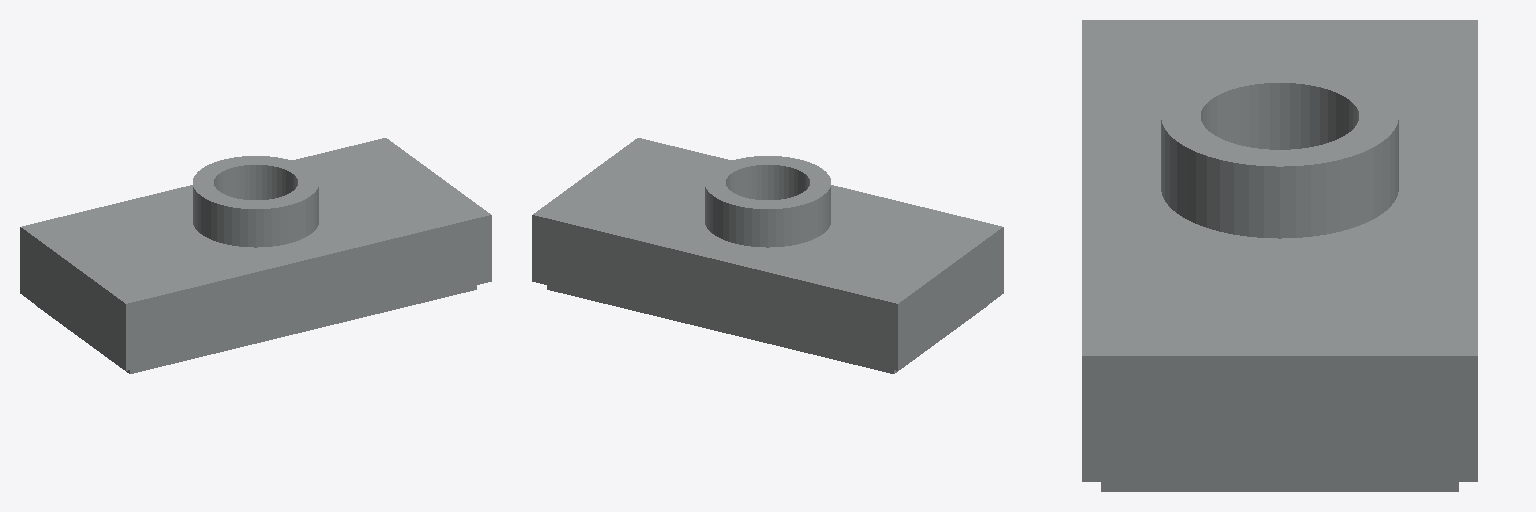
URDF robot description (3794b__light_bluish_gray):
<?xml version="1.0"?>
<robot name="3794b__light_bluish_gray">
  <link name="3794b__light_bluish_gray">
    <inertial>
      <origin xyz="0.000000 0.000000 -0.001128" rpy="0 0 0"/>
      <mass value="0.000540"/>
      <inertia ixx="3.490363747e-09" ixy="4.064211384e-26" ixz="-3.034698599e-26" iyy="1.124910040e-08" iyz="-0.000000000e+00" izz="1.313551019e-08"/>
    </inertial>
    <visual>
      <geometry>
        <mesh filename="../meshes/visual/3794b.obj" scale="1 1 1"/>
      </geometry>
      <material name="3794b__light_bluish_gray_color">
        <color rgba="0.630 0.650 0.650 1.000"/>
      </material>
    </visual>
    <collision>
      <geometry>
        <mesh filename="../meshes/collision/3794b_hull.obj" scale="1 1 1"/>
      </geometry>
    </collision>
  </link>
</robot>

--- Render facts (derived) ---
The picture shows the robot from 3 angles, left to right: view 1: azimuth 30°, elevation 25°; view 2: azimuth 150°, elevation 25°; view 3: azimuth 270°, elevation 25°; orthographic projection.
Model 3794b__light_bluish_gray with 1 links and 0 joints (none), rooted at 3794b__light_bluish_gray, posed every joint at zero.
Visible links, largest first — view 1: 3794b__light_bluish_gray; view 2: 3794b__light_bluish_gray; view 3: 3794b__light_bluish_gray.
Link boxes in pixels (box(x1,y1,x2,y2)): 3794b__light_bluish_gray: box(20, 138, 491, 373); 3794b__light_bluish_gray: box(532, 138, 1003, 373); 3794b__light_bluish_gray: box(1082, 20, 1477, 491).
Size in the robot's own frame: 0.016 by 0.008 by 0.0048 metres.
1 mesh visuals loaded from 1 distinct referenced files (1 OBJ).
